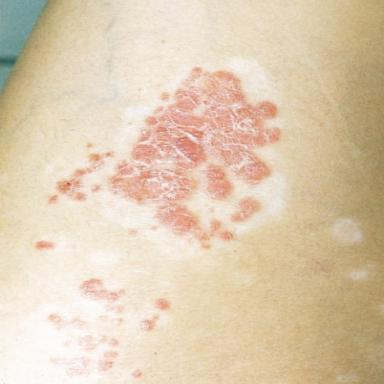Psoriasis: (109, 68, 280, 242)
